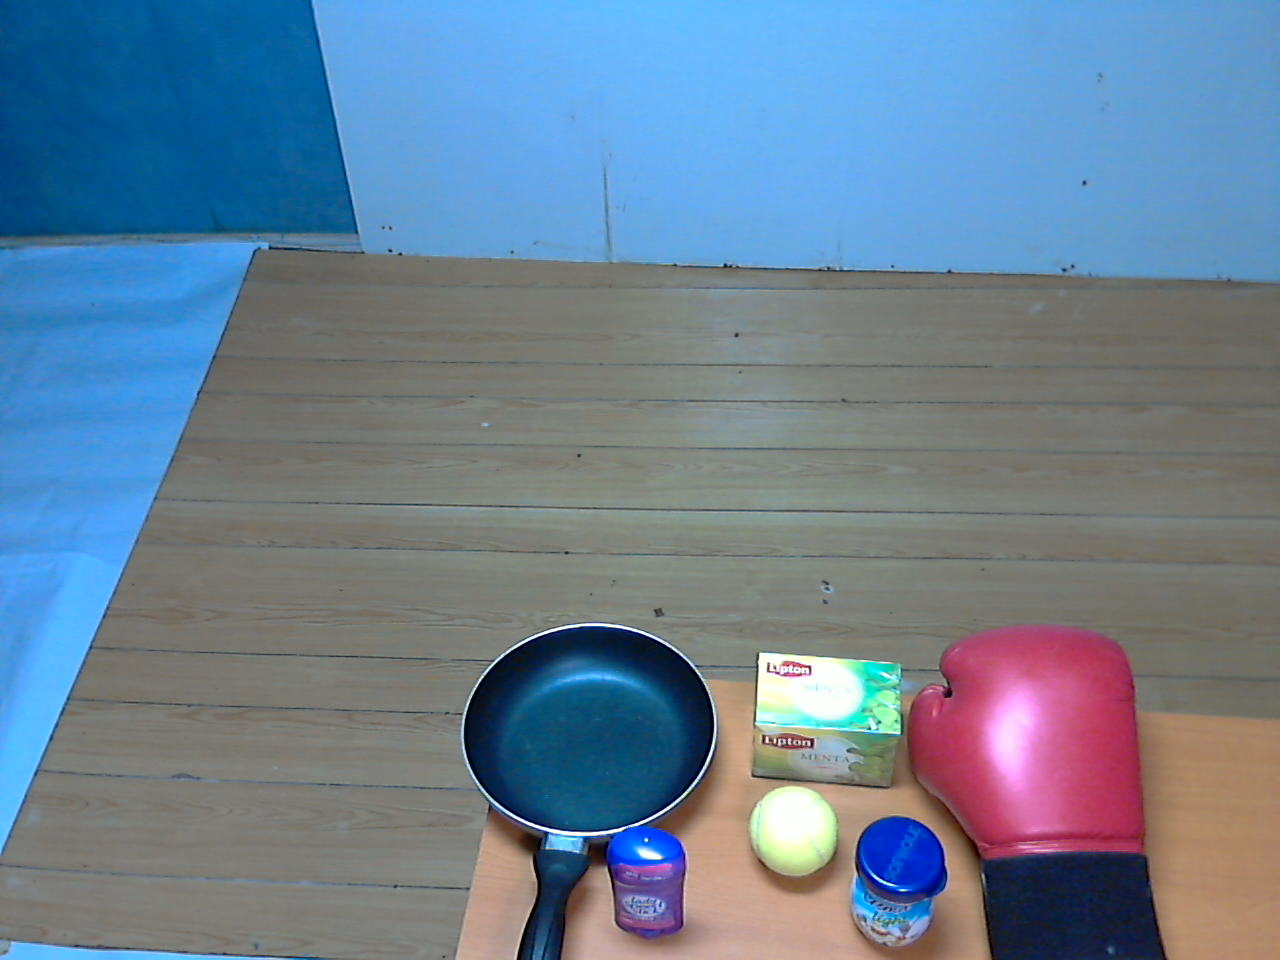crema: (845, 810, 957, 960)
desodorante: (596, 819, 698, 944)
guante: (905, 613, 1176, 960)
pelota: (739, 776, 844, 885)
sarten: (454, 622, 724, 959)
te: (744, 639, 910, 795)
